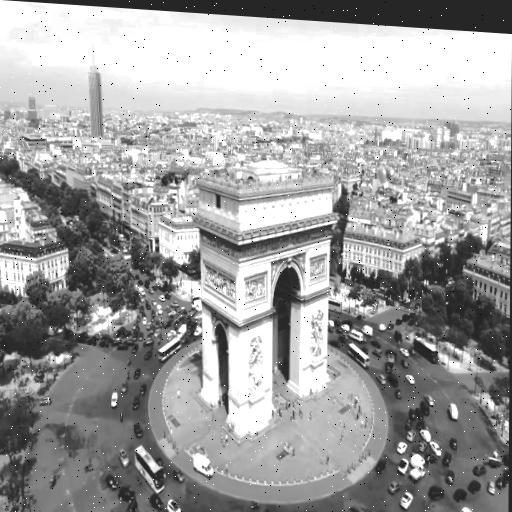balloon: (385, 164, 395, 183), (377, 167, 384, 185)
